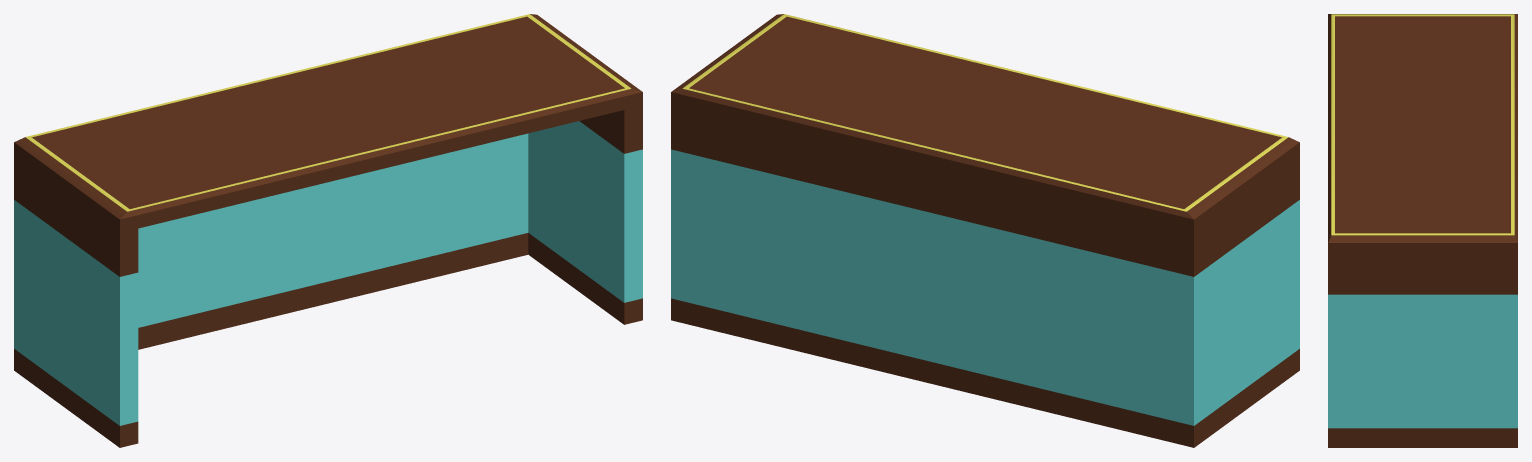
File: newOfficeDesk1.fbx
The picture shows the model from 3 angles, left to right: view 1: azimuth 30°, elevation 25°; view 2: azimuth 150°, elevation 25°; view 3: azimuth 270°, elevation 25°; orthographic projection. The views are drawn at different scales.
Parts seen in each view (by area): view 1: Cube.002; view 2: Cube.002; view 3: Cube.002.
Boxes of the visible parts, x1=… form: Cube.002: x1=14, y1=14, x2=642, y2=447; Cube.002: x1=671, y1=14, x2=1299, y2=447; Cube.002: x1=1328, y1=14, x2=1517, y2=447.
Bounding box in the file's own units: 200 × 85 × 70.
